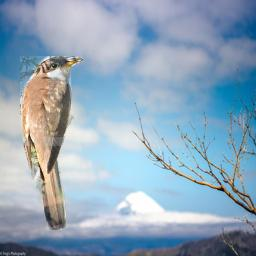Cuckoo: (20, 56, 83, 230)
